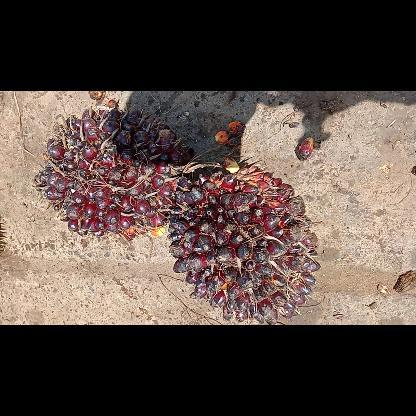Kurang masak: (165, 158, 323, 324), (32, 105, 204, 245)
